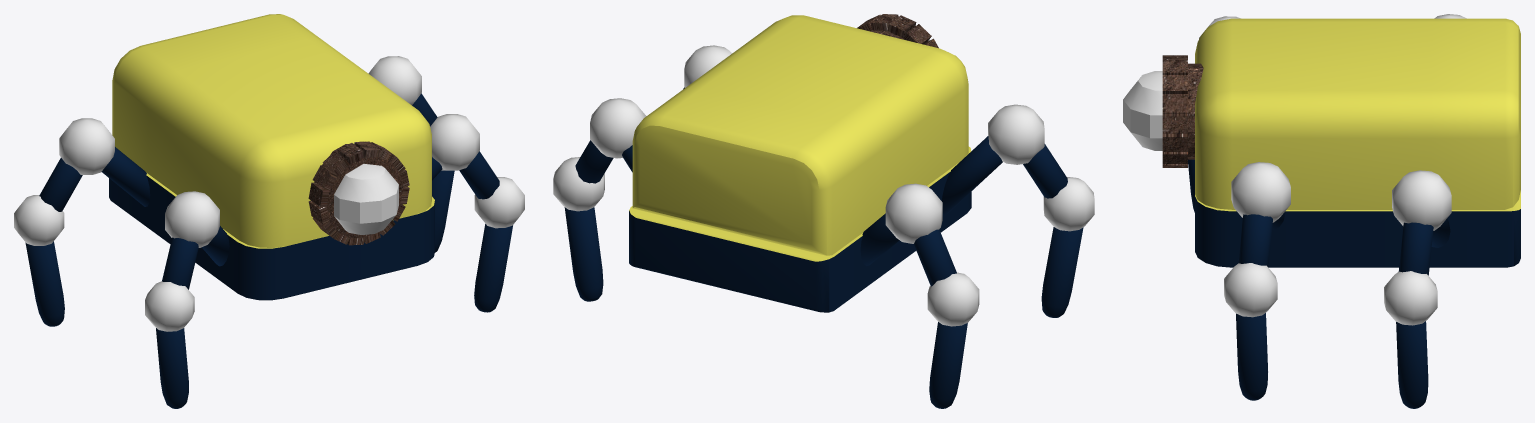
File: spider.fbx
3 views of the same model, side by side, from view 1: azimuth 30°, elevation 25°; view 2: azimuth 150°, elevation 25°; view 3: azimuth 270°, elevation 25° (orthographic). The views are drawn at different scales.
Visible parts, largest first — view 1: Cube.006, Cylinder.007, Cylinder.008, Cylinder.003, Cylinder.005; view 2: Cube.006, Cylinder.008, Cylinder.007, Cylinder.005, Cylinder.003; view 3: Cube.006, Cylinder.005, Cylinder.003, Cylinder.008.
Boxes of the visible parts, <box> form: Cube.006: <box>109,14,434,300</box>; Cylinder.007: <box>14,118,150,326</box>; Cylinder.008: <box>145,191,229,408</box>; Cylinder.003: <box>430,114,524,312</box>; Cylinder.005: <box>368,56,454,252</box>; Cube.006: <box>629,14,971,312</box>; Cylinder.008: <box>942,104,1094,317</box>; Cylinder.007: <box>860,183,979,408</box>; Cylinder.005: <box>553,98,646,301</box>; Cylinder.003: <box>683,45,731,89</box>; Cube.006: <box>1123,18,1520,267</box>; Cylinder.005: <box>1384,170,1451,408</box>; Cylinder.003: <box>1224,162,1290,400</box>; Cylinder.008: <box>1188,16,1240,212</box>.
Size of the model in its own units: 4.49 by 2.38 by 3.36.
